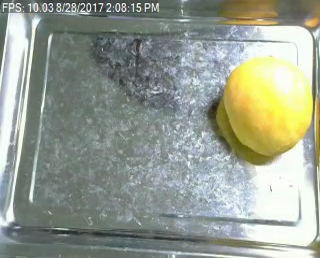Mango: (220, 55, 314, 157)
